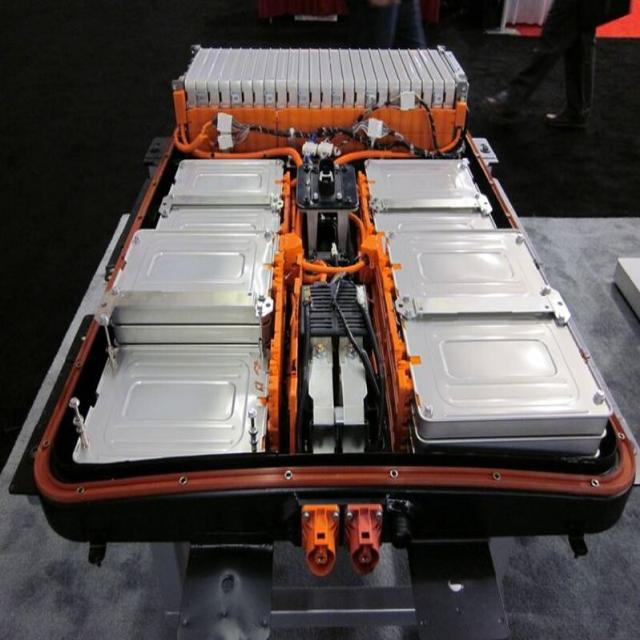Battery Module: (384, 160, 592, 418), (128, 161, 270, 301), (99, 346, 247, 453), (188, 47, 458, 80)
Bolt: (65, 396, 93, 451), (93, 316, 122, 368), (242, 404, 260, 450), (398, 285, 414, 304), (512, 229, 528, 248), (421, 400, 436, 420), (109, 284, 125, 300), (592, 388, 608, 404), (268, 191, 281, 210), (557, 310, 570, 329), (401, 306, 416, 322), (385, 226, 397, 246), (176, 157, 190, 174), (262, 226, 274, 245), (478, 140, 492, 156), (455, 158, 471, 171), (256, 288, 266, 308), (132, 230, 142, 250), (540, 282, 552, 298), (480, 205, 492, 219), (371, 202, 383, 216), (310, 190, 321, 205), (363, 157, 374, 172), (332, 189, 345, 200), (159, 207, 171, 218), (472, 190, 482, 203), (272, 157, 281, 170)
Bus-bar: (355, 173, 411, 393), (264, 167, 304, 399), (285, 255, 308, 405)
Cable: (177, 118, 462, 161)
Nut: (313, 342, 327, 356), (347, 342, 359, 358)
Screw: (486, 466, 504, 483), (384, 464, 402, 480), (72, 356, 88, 374), (74, 483, 92, 498), (280, 469, 299, 483), (613, 429, 629, 444), (178, 472, 190, 488), (589, 475, 602, 489), (41, 438, 52, 450)
